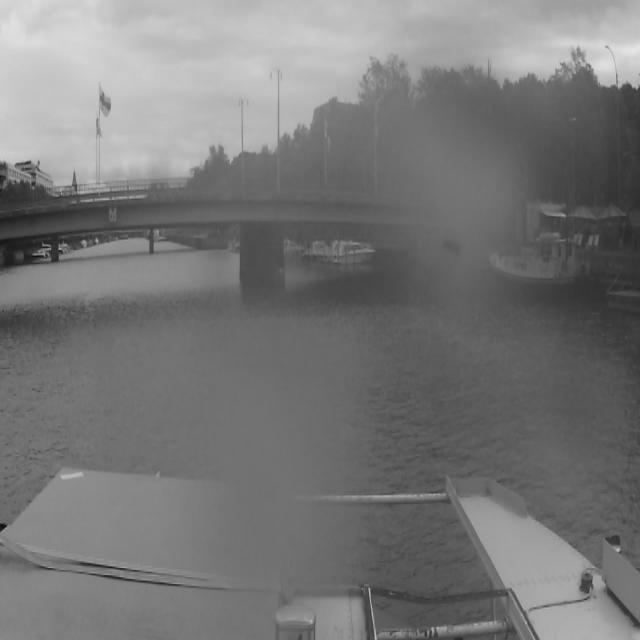ship: (491, 234, 591, 298)
